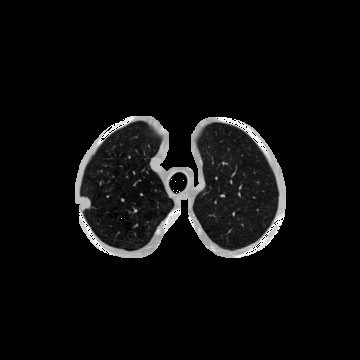PN: (79, 196, 91, 208)
